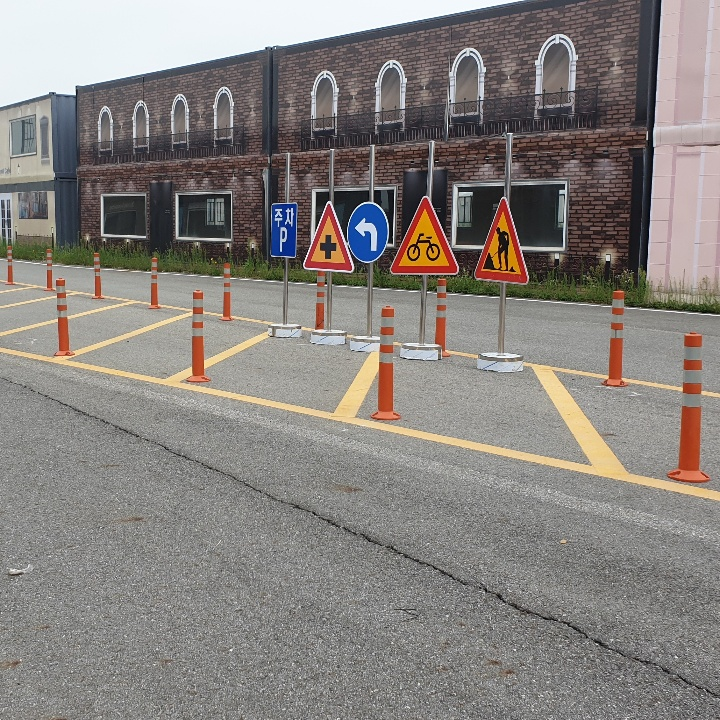bicycle: (388, 197, 459, 274)
const: (480, 224, 521, 274)
inter: (312, 225, 341, 263)
left: (352, 214, 382, 255)
parking: (271, 224, 292, 253)
